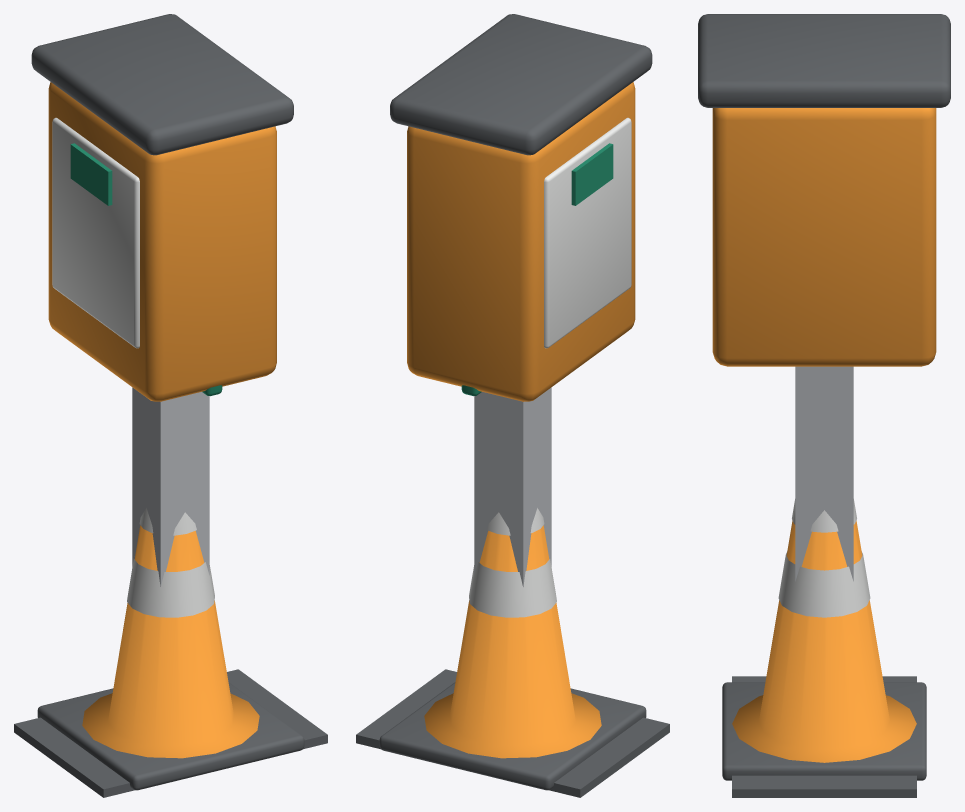
File: env_misc.glb
3 views of the same model, side by side, from view 1: azimuth 30°, elevation 25°; view 2: azimuth 150°, elevation 25°; view 3: azimuth 270°, elevation 25° (orthographic). The views are drawn at different scales.
Parts seen in each view (by area): view 1: phone, cone, drain; view 2: phone, cone, drain; view 3: phone, cone, drain.
Part boxes in pixels (box(x1,y1,x2,y2)): phone: box(31, 14, 293, 586); cone: box(37, 508, 304, 790); drain: box(14, 669, 327, 797); phone: box(390, 14, 652, 586); cone: box(379, 508, 646, 790); drain: box(356, 669, 669, 797); phone: box(698, 14, 950, 581); cone: box(722, 499, 926, 780); drain: box(732, 676, 916, 797).
Bounding box in the file's own units: 0.55 × 1.56 × 0.52.
